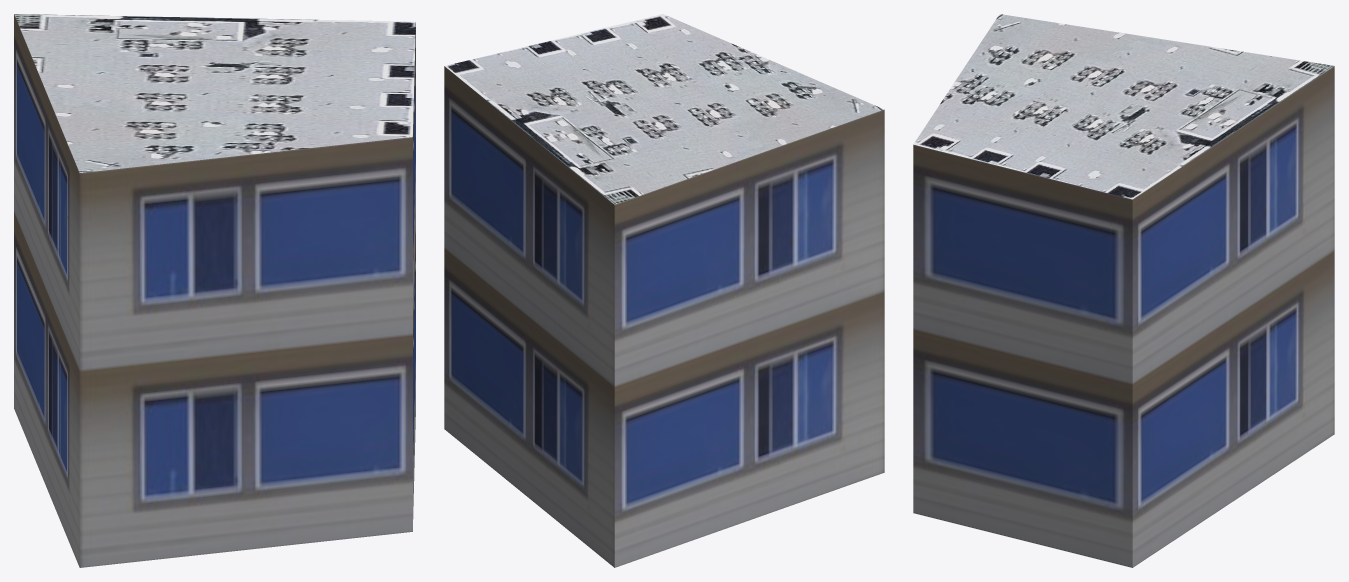
The model's file is ResTex__3097.fbx.
3 renders of one model, left to right at view 1: azimuth 30°, elevation 25°; view 2: azimuth 150°, elevation 25°; view 3: azimuth 270°, elevation 25°, orthographic. The views are drawn at different scales.
Parts seen in each view (by area): view 1: CityEngineMaterial_23_m, CityEngineMaterial_m; view 2: CityEngineMaterial_23_m, CityEngineMaterial_m; view 3: CityEngineMaterial_23_m, CityEngineMaterial_m.
Part boxes in pixels (x1=…): CityEngineMaterial_23_m: x1=14, y1=14, x2=415, y2=567; CityEngineMaterial_m: x1=14, y1=14, x2=415, y2=172; CityEngineMaterial_23_m: x1=444, y1=66, x2=884, y2=567; CityEngineMaterial_m: x1=445, y1=14, x2=884, y2=204; CityEngineMaterial_23_m: x1=913, y1=66, x2=1334, y2=567; CityEngineMaterial_m: x1=913, y1=14, x2=1333, y2=199.
Bounding box in the file's own units: 6.48 × 6 × 6.22.
2 materials, 2 textured.
